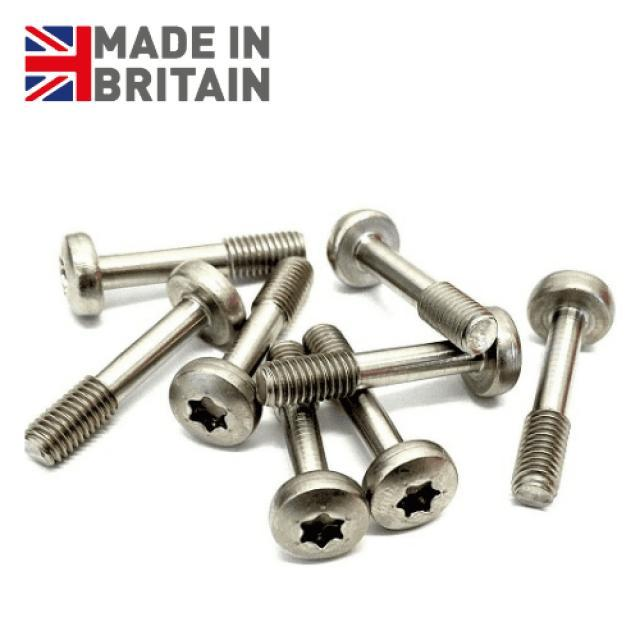torx: (268, 470, 370, 562), (362, 438, 460, 532), (167, 356, 261, 449)
